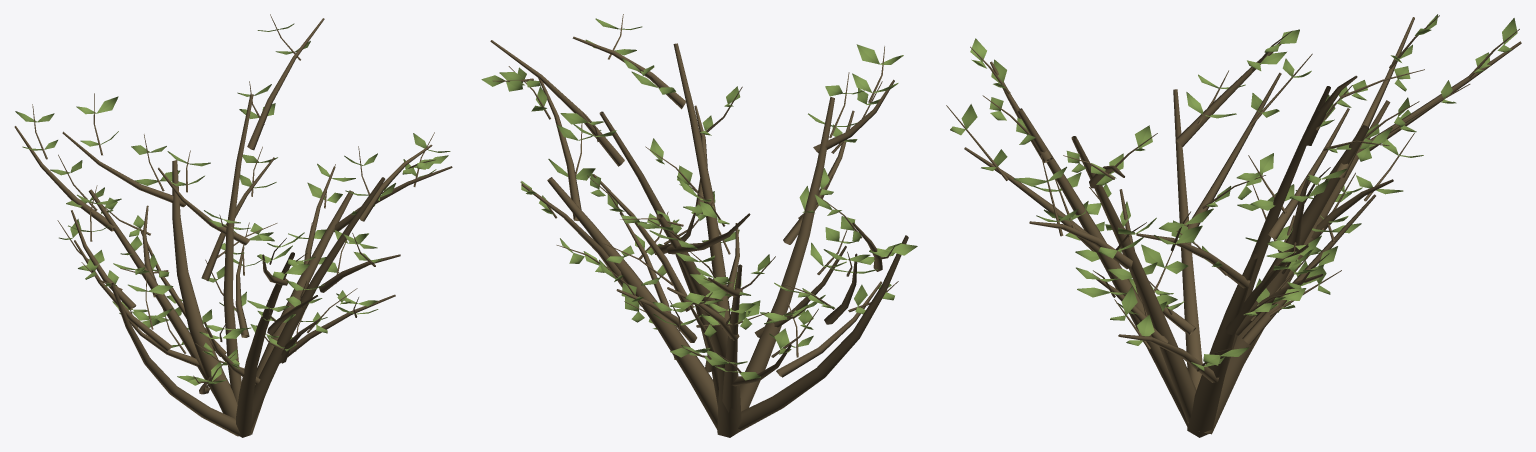
Rendered from Lentisque_0_Low.fbx.
3 renders of one model, left to right at view 1: azimuth 30°, elevation 25°; view 2: azimuth 150°, elevation 25°; view 3: azimuth 270°, elevation 25°, orthographic. The views are drawn at different scales.
Visible parts, largest first — view 1: Lentisque_0_Low; view 2: Lentisque_0_Low; view 3: Lentisque_0_Low.
Boxes of the visible parts, box(x1,y1,x2,y2) form: Lentisque_0_Low: box(14, 14, 452, 437); Lentisque_0_Low: box(481, 14, 917, 437); Lentisque_0_Low: box(946, 14, 1521, 437).
Size of the model in its own units: 170 by 158 by 184.
